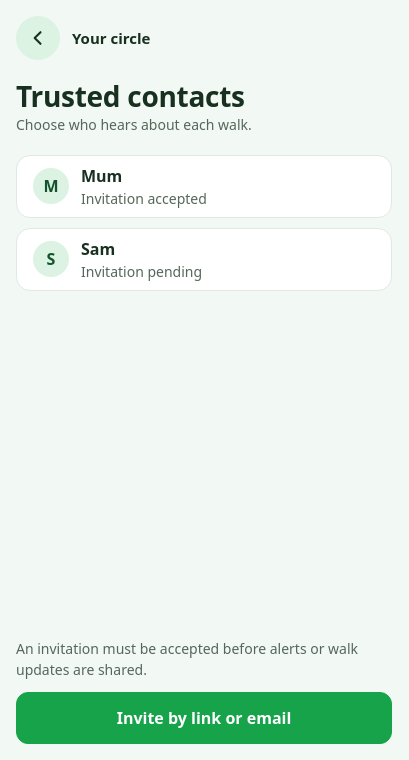
Test: an open invite can be cancelled but not paused
Click the button "S Sam Invitation pending" at point(204, 259), box [17, 229, 391, 290]
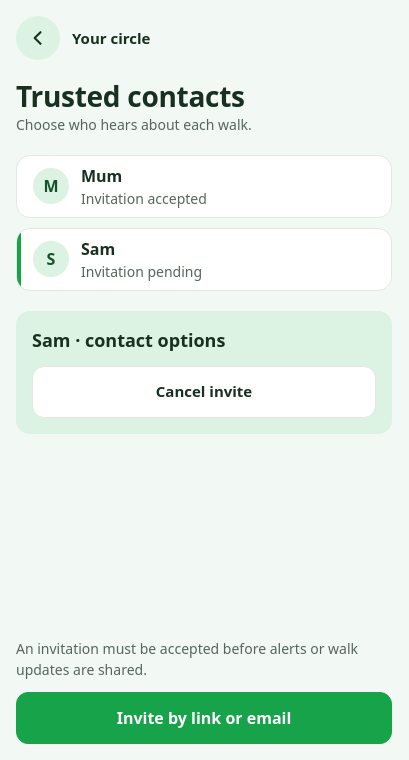
Expected: the button "Cancel invite" is shown, [32, 366, 376, 418]
